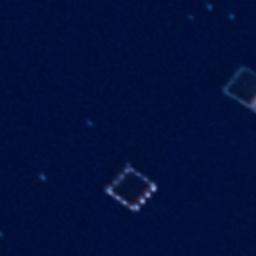square_solid: (100, 161, 159, 216), (219, 61, 256, 112)
